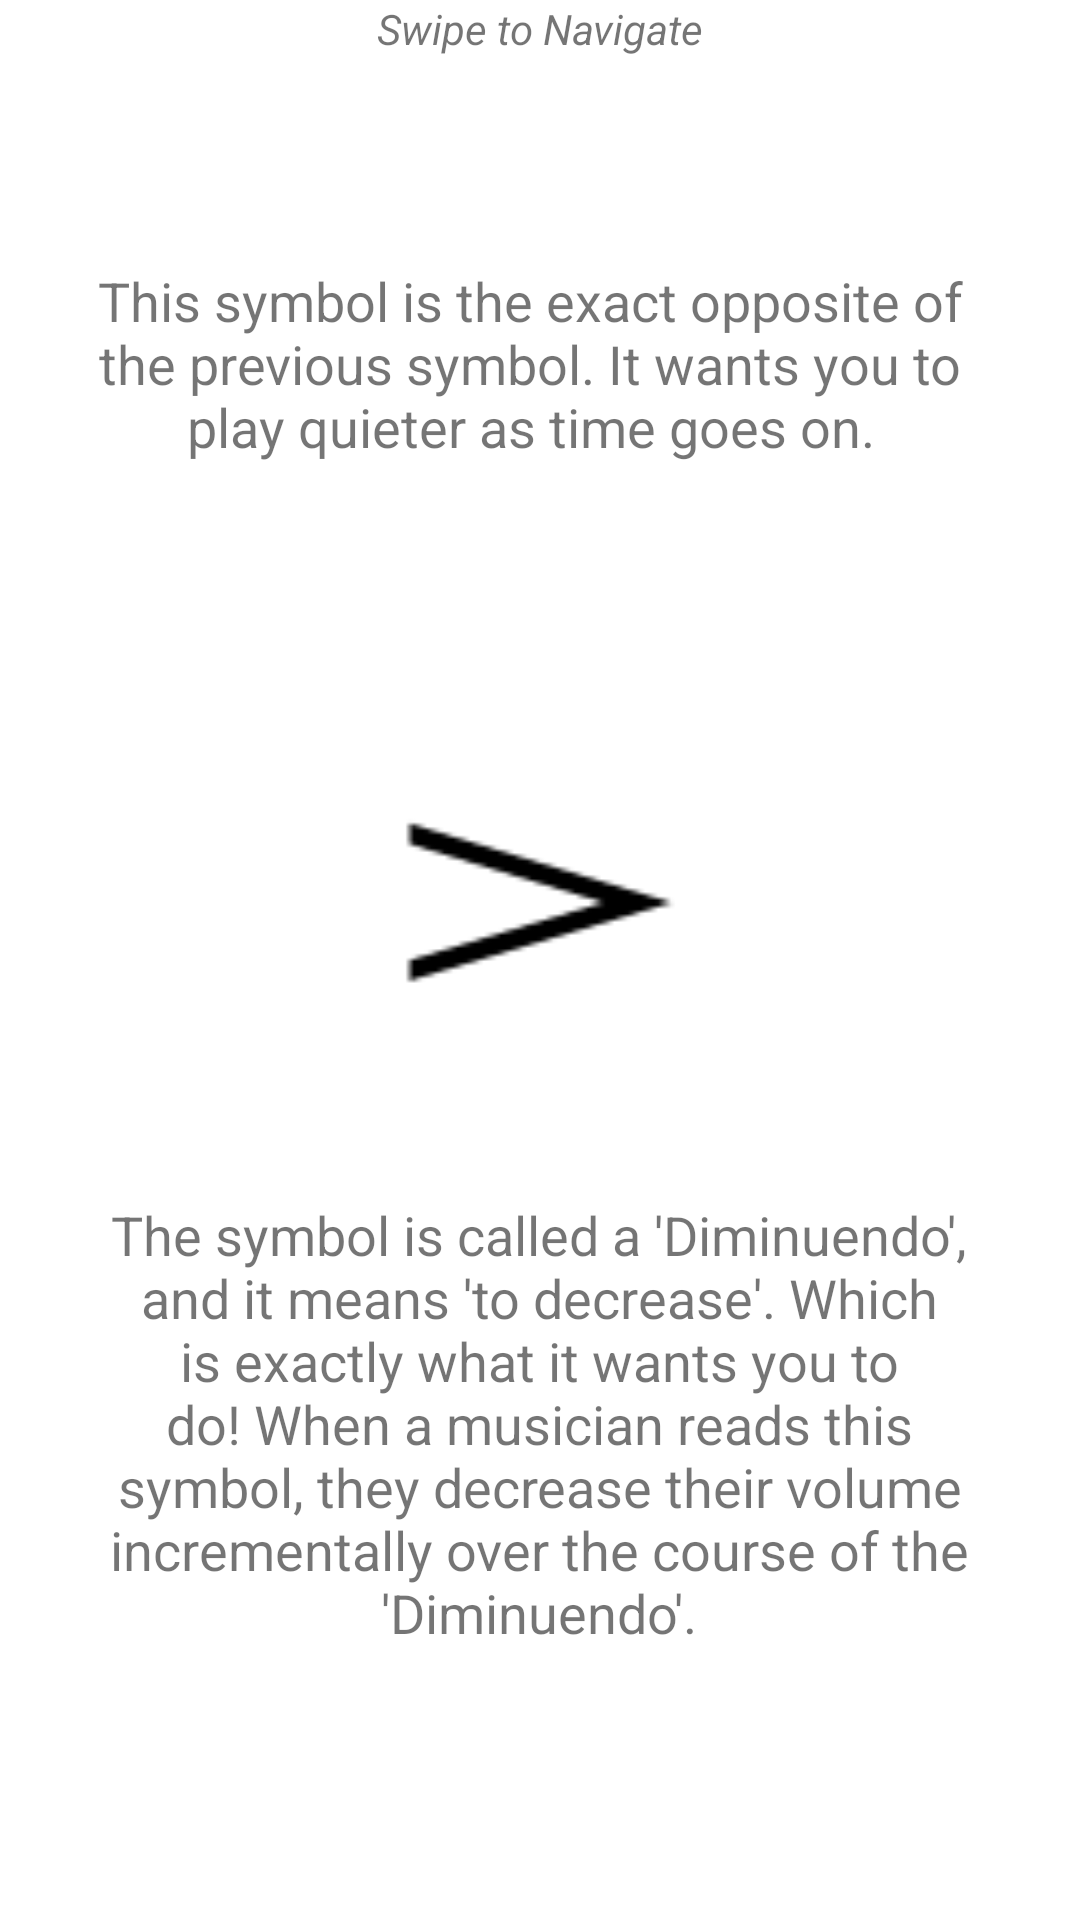

Icons on this 1080x1920 Android screen, each with its box as Rect(x1, y1, x2, y2):
diminuendo dynamic marking: Rect(406, 822, 671, 983)
